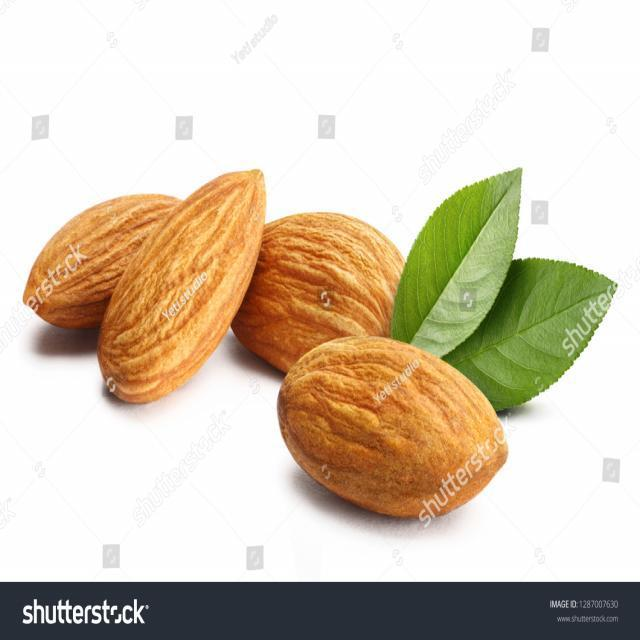almond: (275, 335, 505, 527), (99, 165, 269, 405), (232, 207, 410, 373), (25, 188, 192, 330)
